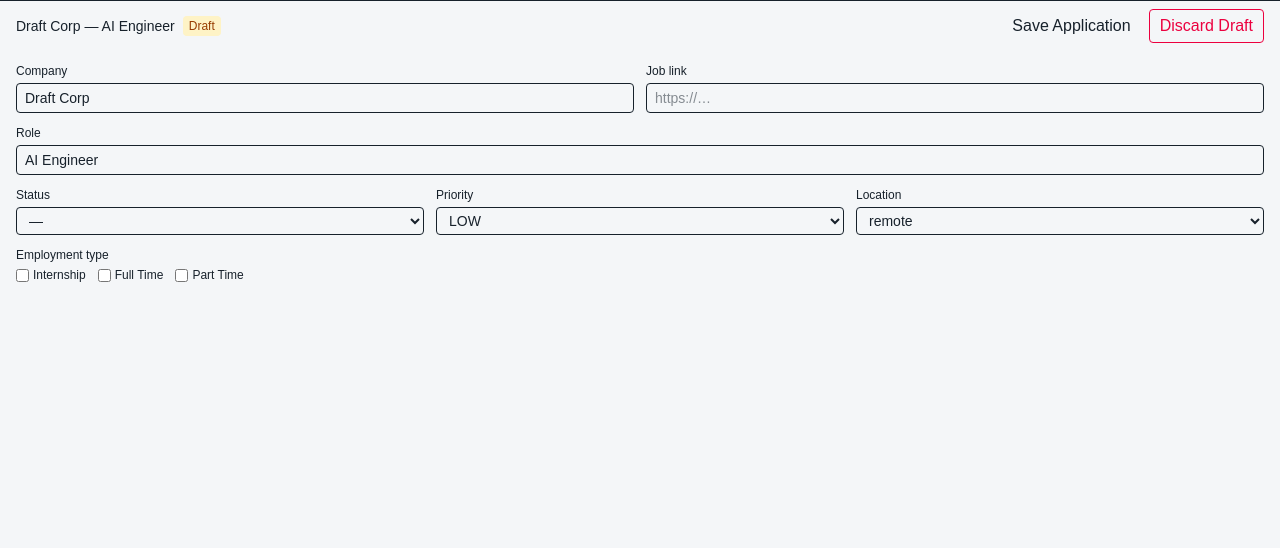
Conflict handling › shows conflict message inline when patchDraft returns 409
Replace the text in the field with placeholder "e.g. Neilsoft" below "Company" with "Changed Co" at [325, 98], box [16,83,634,113]
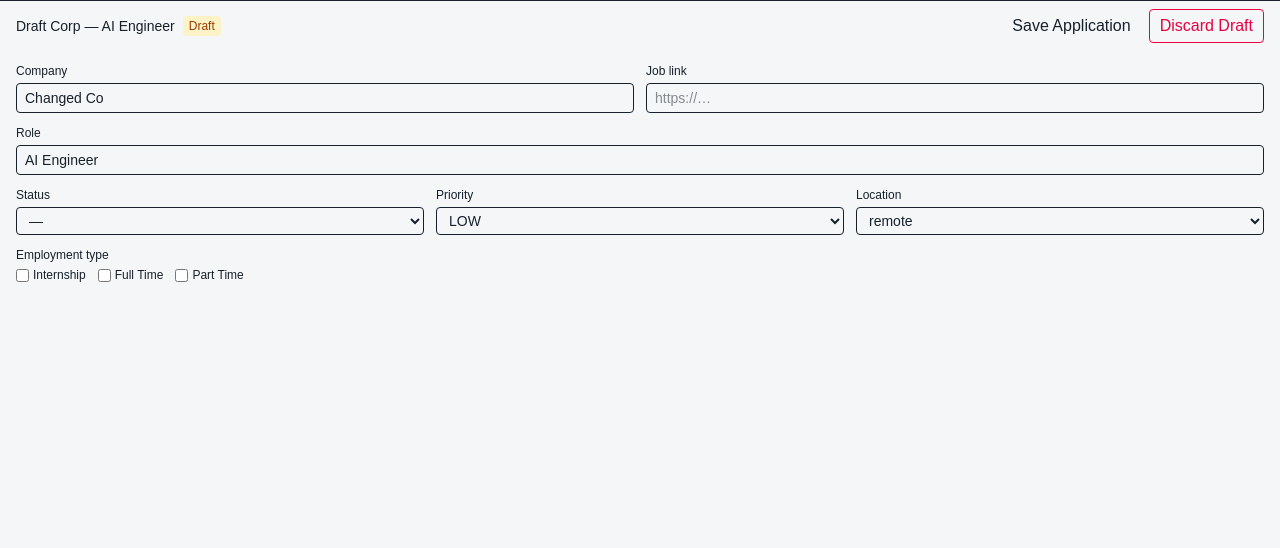
Submit the form named "Save Draft Changes"
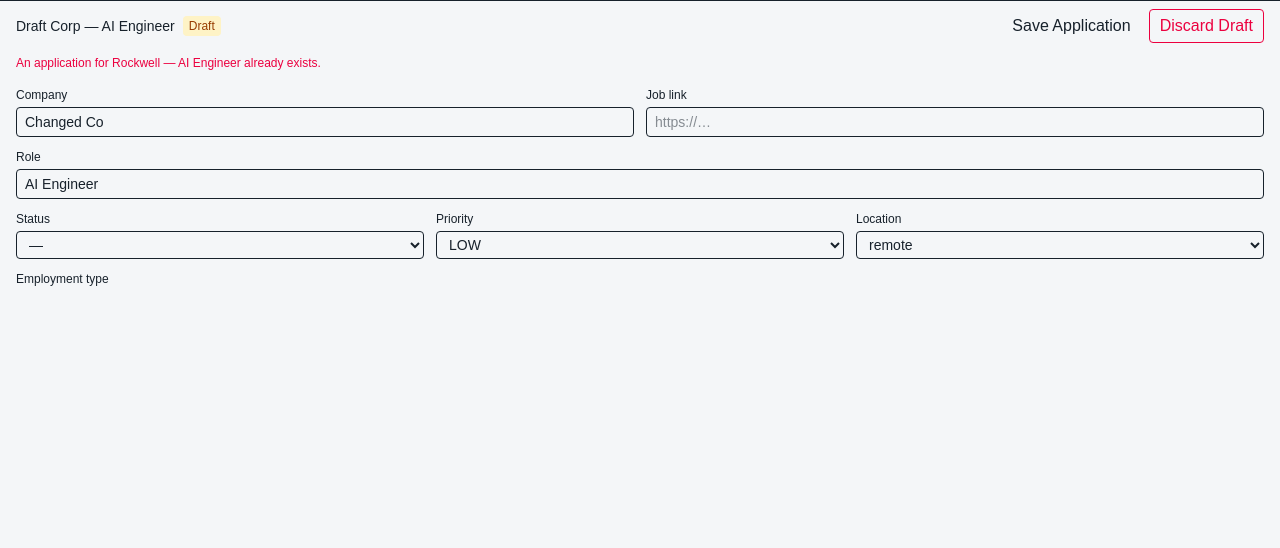
Expected: the text "An application for Rockwell — AI Engineer already exists." is shown, [16,56,321,70]
